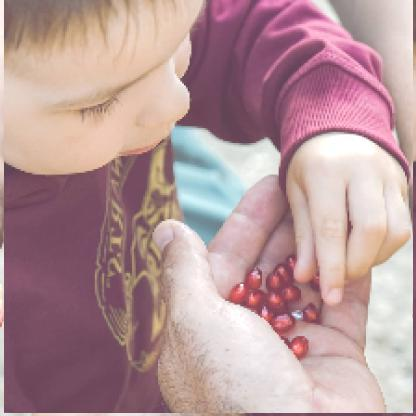child: (5, 1, 415, 415)
